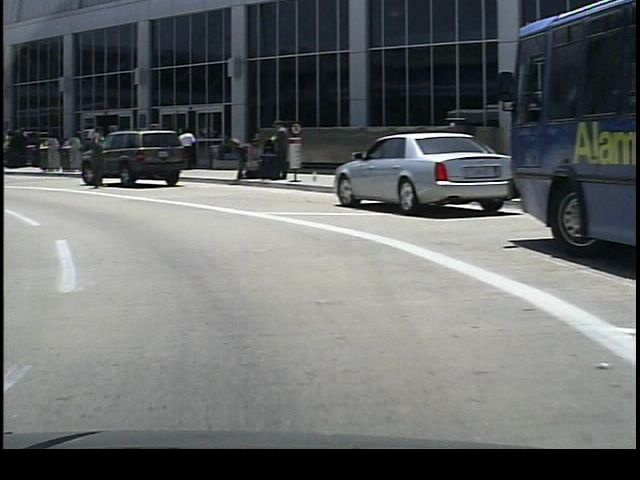person: (80, 117, 108, 197), (225, 131, 254, 185), (264, 119, 284, 183), (171, 127, 193, 172)
